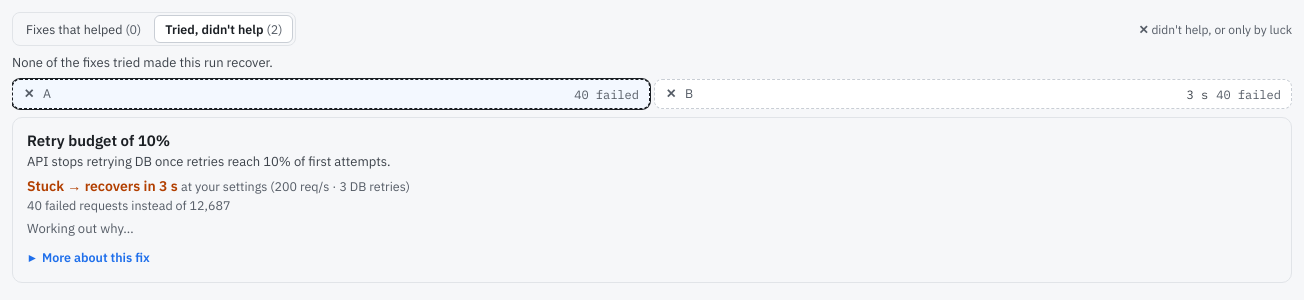
Test case: FixTabs views: fixes that helped, and the ones tried that did not › opens the second view with a note when nothing helped
Expected: the text "None of the fixes tried made this run recover." is shown, [12,54,273,71]
Click the button "Fixes that helped (0)". click: (84, 29)
box: [15,15,152,43]
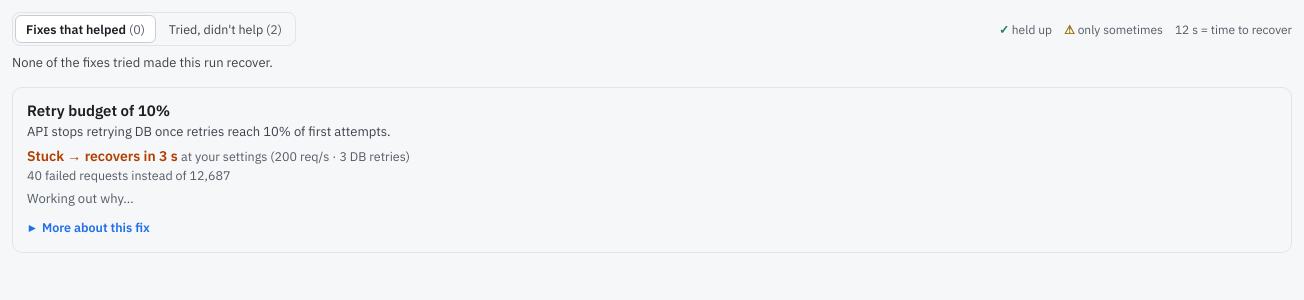
Expected: no tabs are shown
